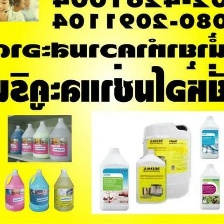cleaning_solution: (141, 118, 195, 201), (97, 145, 131, 211), (134, 147, 168, 206), (198, 162, 223, 210), (51, 167, 76, 214), (2, 166, 26, 213), (48, 117, 73, 162), (199, 112, 221, 163), (27, 167, 50, 214), (30, 119, 53, 160), (20, 122, 39, 158), (9, 124, 25, 157)
